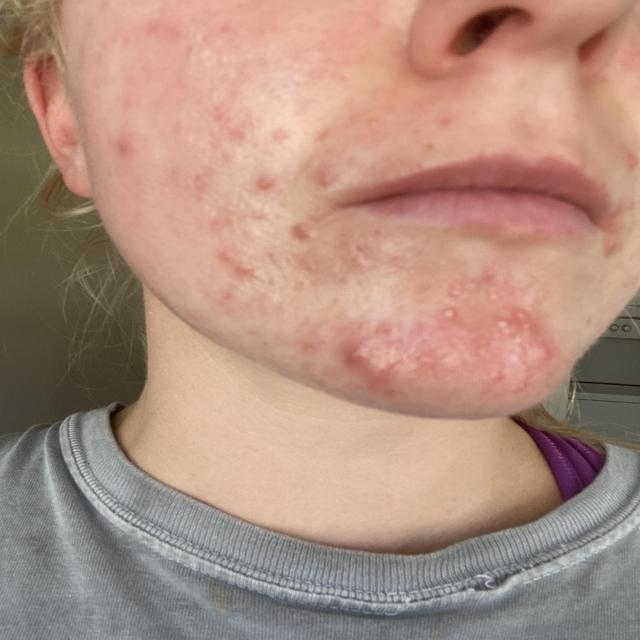acne: (72, 62, 640, 415)
